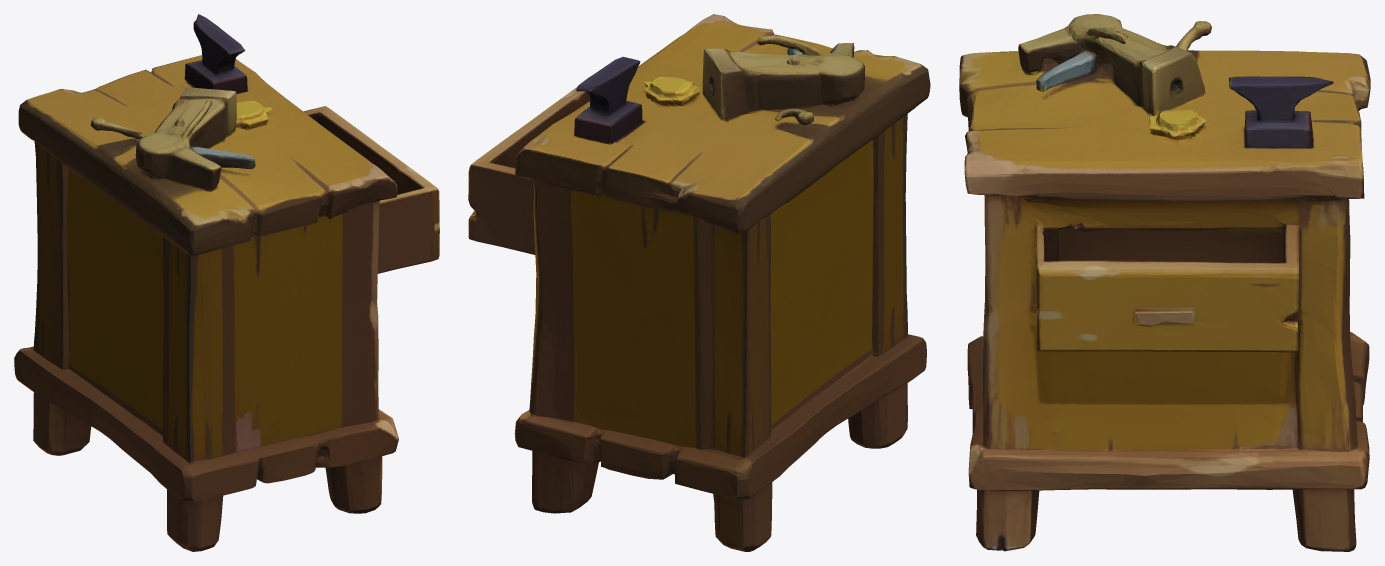
The model's file is markup.glb.
3 views of the same model, side by side, from view 1: azimuth 30°, elevation 25°; view 2: azimuth 150°, elevation 25°; view 3: azimuth 270°, elevation 25° (orthographic). The views are drawn at different scales.
Parts seen in each view (by area): view 1: world; view 2: world; view 3: world.
Boxes of the visible parts, left/top/right/bottom form: world: left=14, top=14, right=439, bottom=551; world: left=468, top=14, right=930, bottom=551; world: left=959, top=14, right=1370, bottom=551.
Bounding box in the file's own units: 0.4521 × 0.5767 × 0.4723.
1 material, 1 textured.
